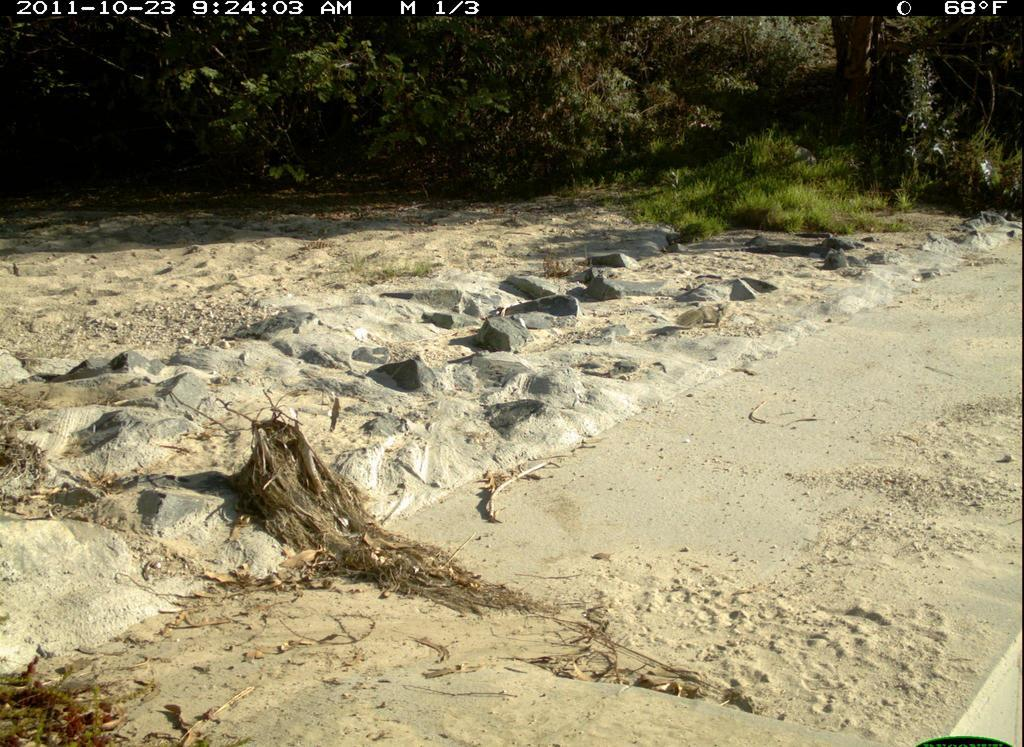squirrel: (678, 300, 730, 332)
